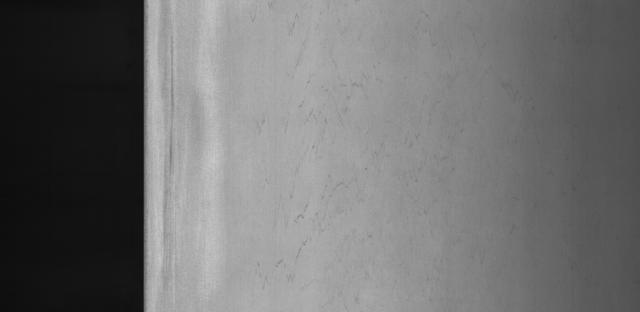silk_spot: (261, 0, 413, 296)
